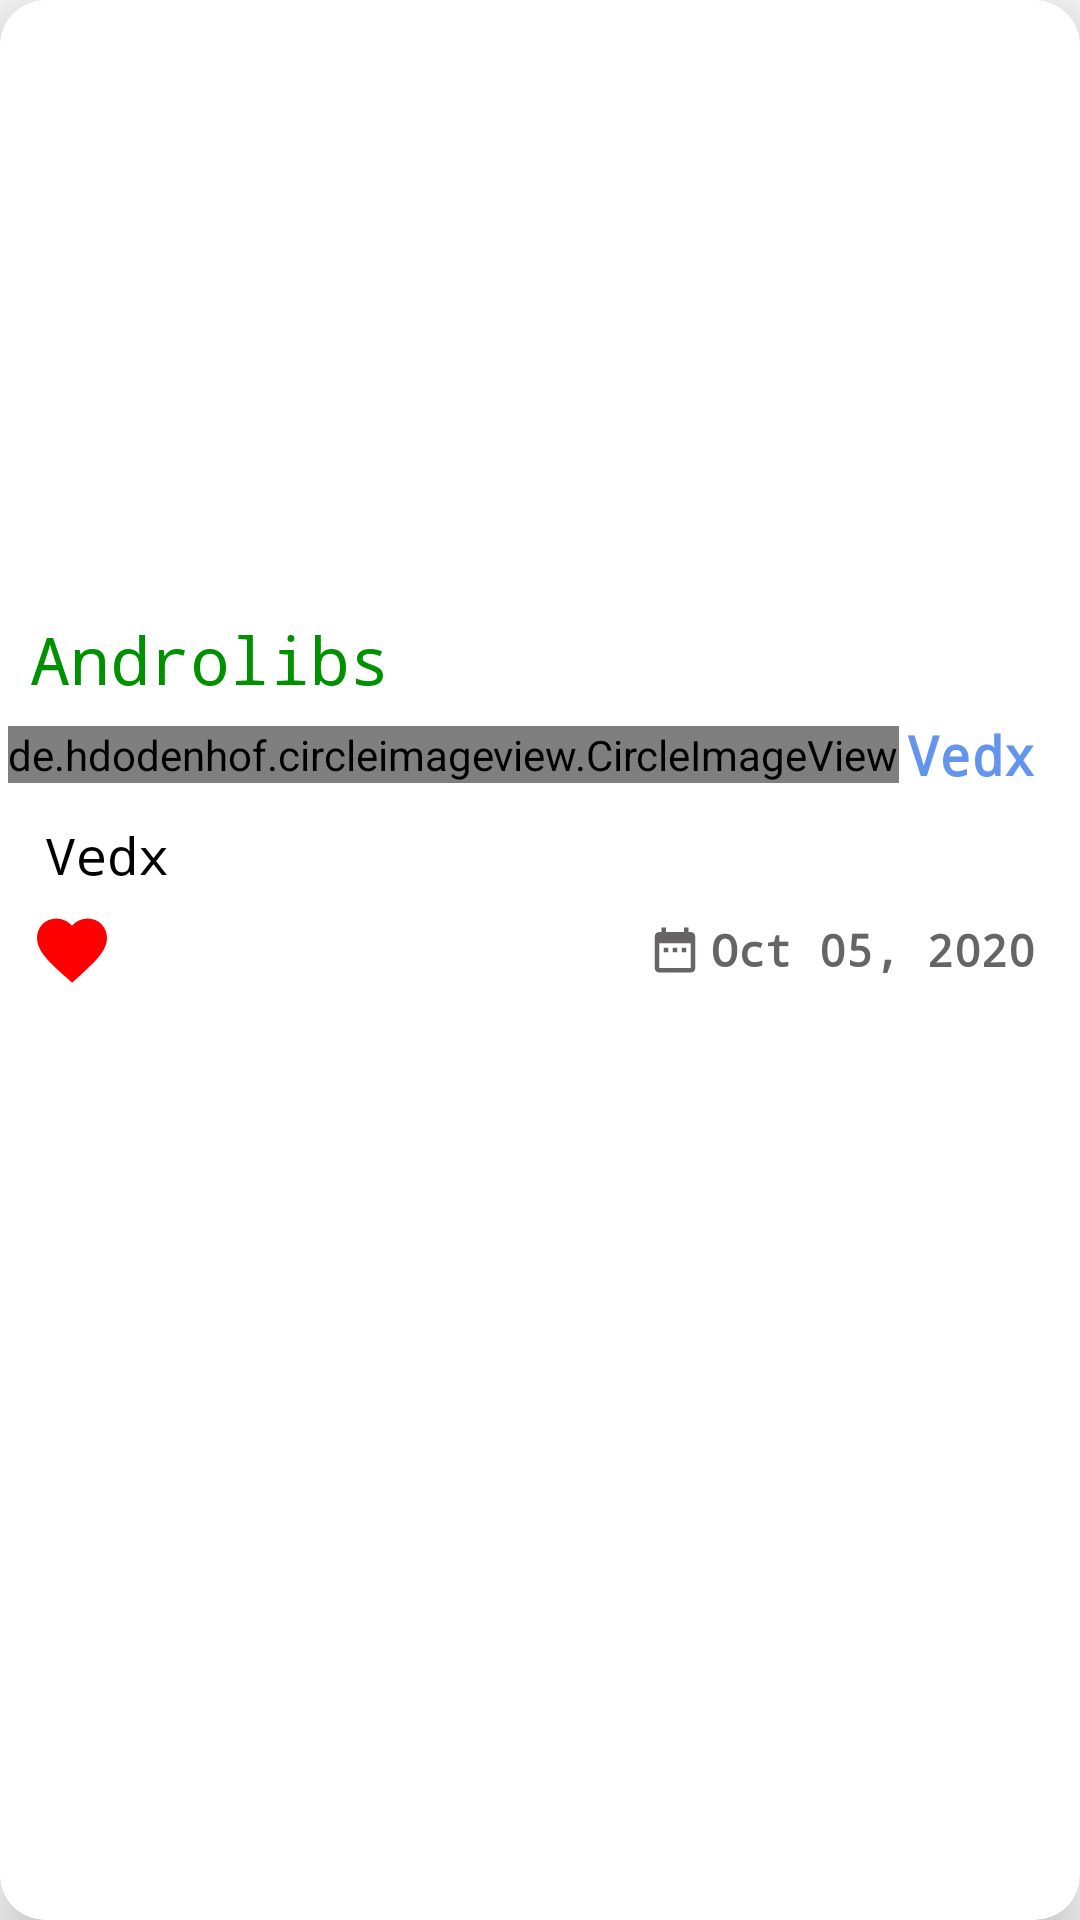

Icons on this 1080x1920 Android screen, each with its box as (x1, y1, x2, y2):
date range: (654, 927, 696, 973)
favorite: (37, 918, 107, 983)
